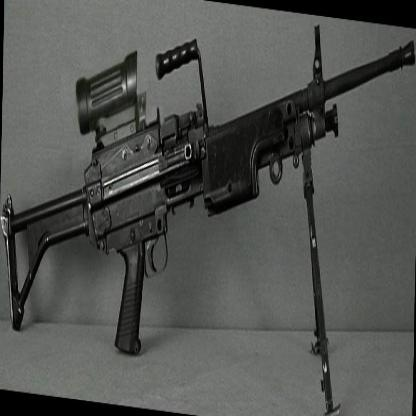rifle: (8, 0, 416, 375)
